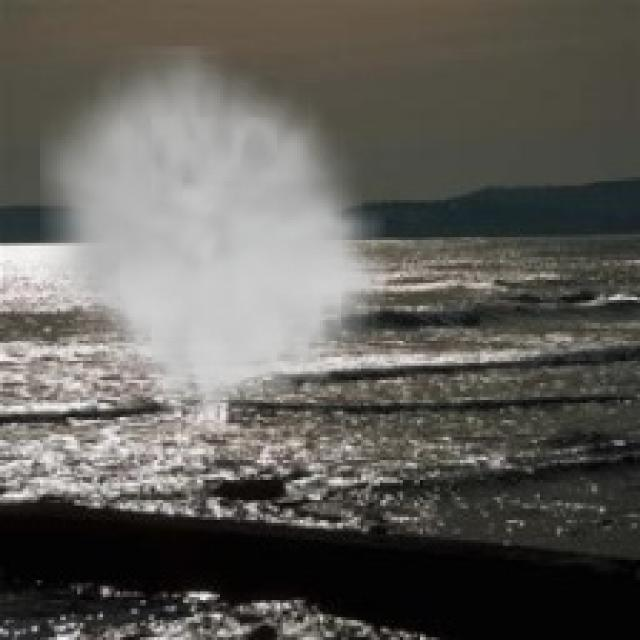Smoke: (40, 46, 386, 434)
